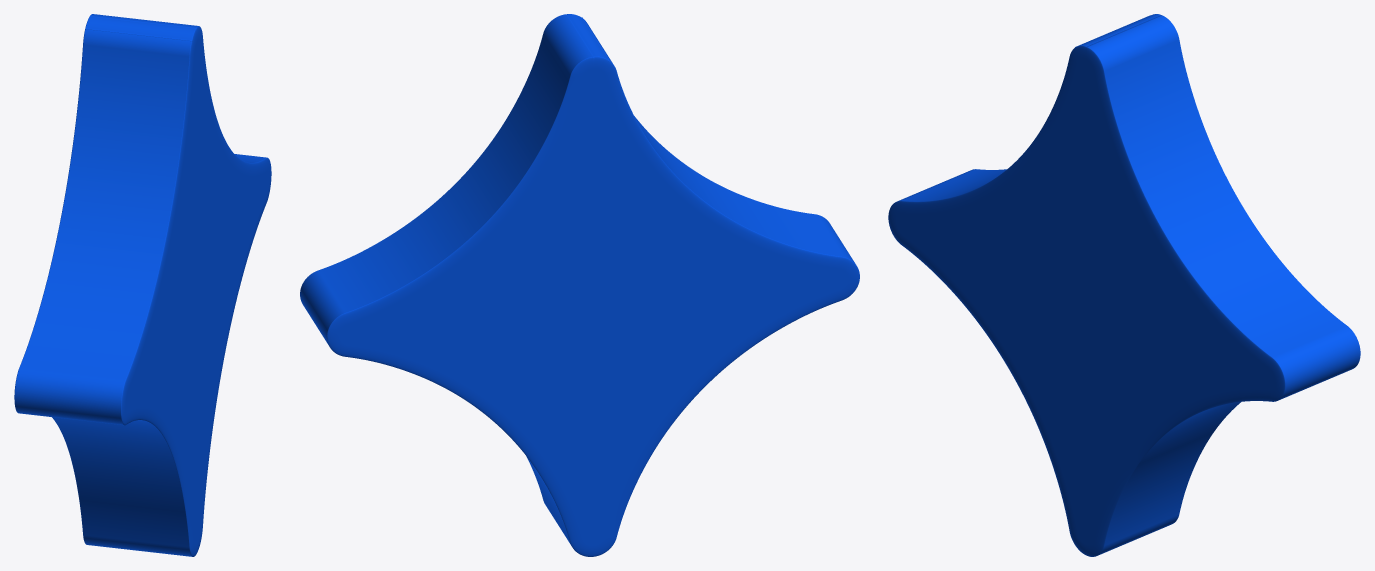
The model's file is GlassStar2.gltf.
The picture shows the model from 3 angles, left to right: view 1: azimuth 30°, elevation 25°; view 2: azimuth 150°, elevation 25°; view 3: azimuth 270°, elevation 25°; orthographic projection. The views are drawn at different scales.
Size of the model in its own units: 43.9 by 52.19 by 43.9.
